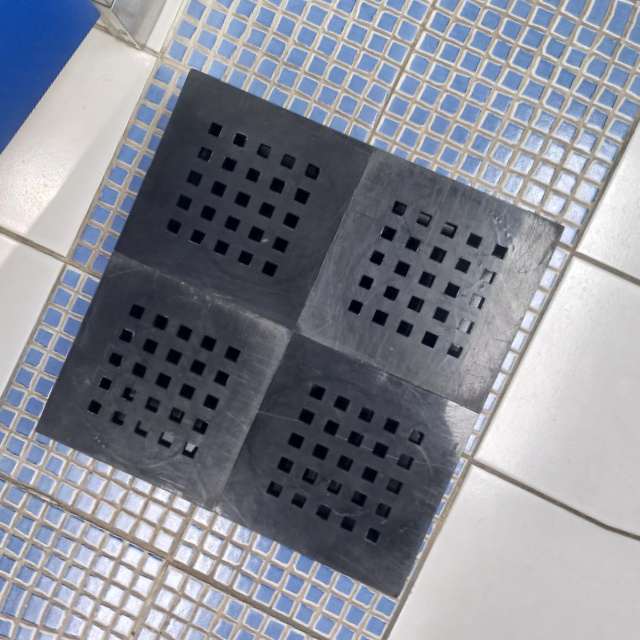pallet: (30, 61, 572, 604)
